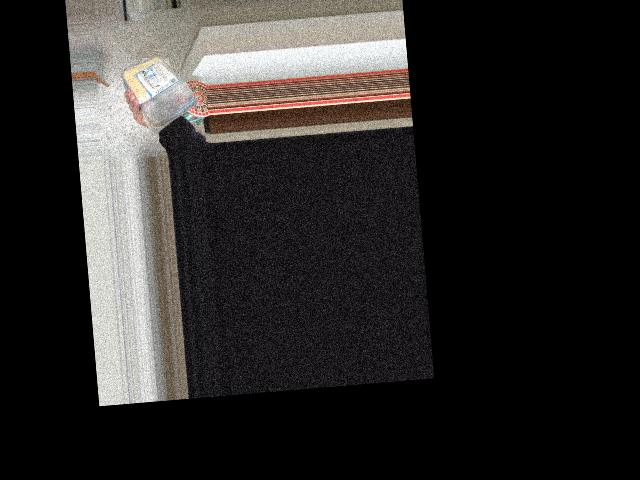cheese: (128, 46, 200, 126)
